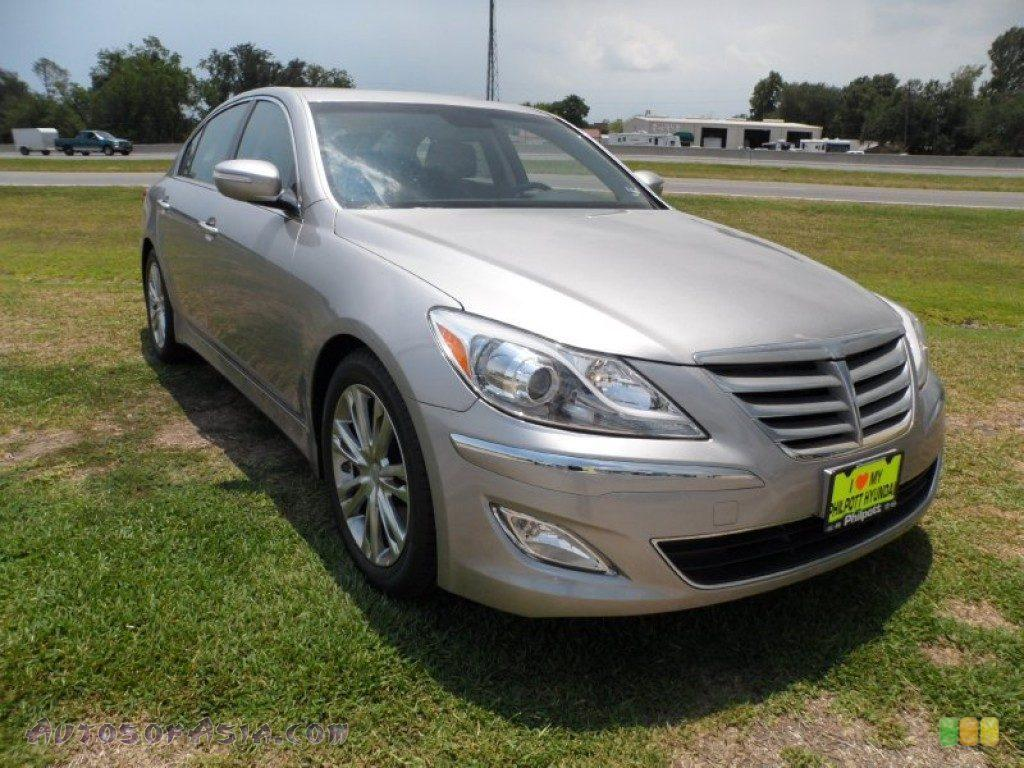Sedan: (139, 83, 947, 619)
